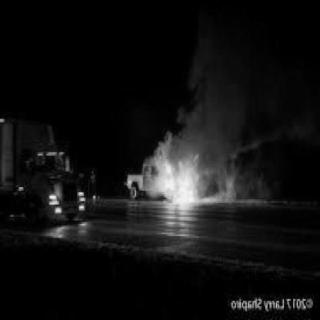Fire: (163, 156, 203, 206)
Smoke: (174, 95, 228, 147)
